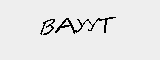А: (56, 16, 75, 39)
В: (39, 16, 54, 39)
Т: (98, 15, 115, 34)
У: (76, 15, 87, 37), (87, 16, 100, 34)
